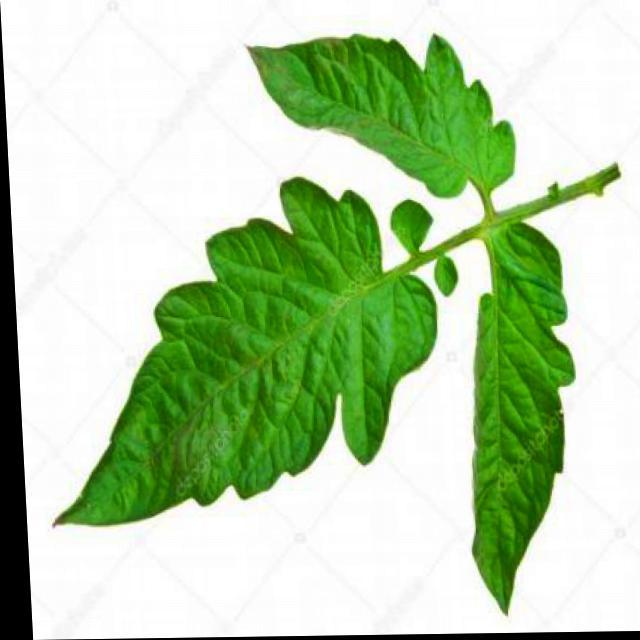Tomato bacterial spot leaf: (32, 172, 452, 560), (440, 207, 582, 634), (246, 34, 524, 214)
